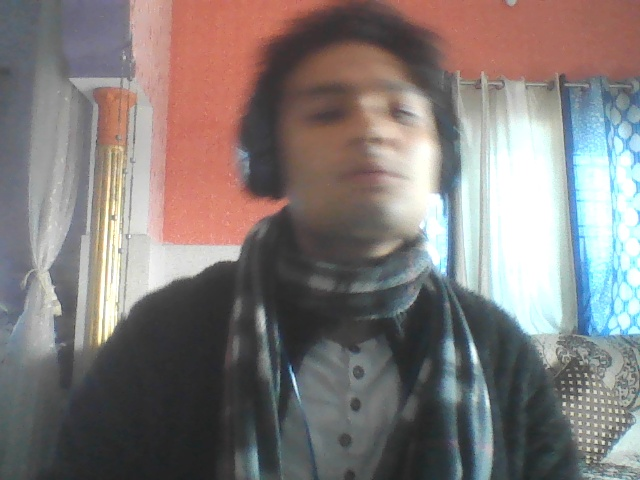real: (271, 0, 445, 246)
